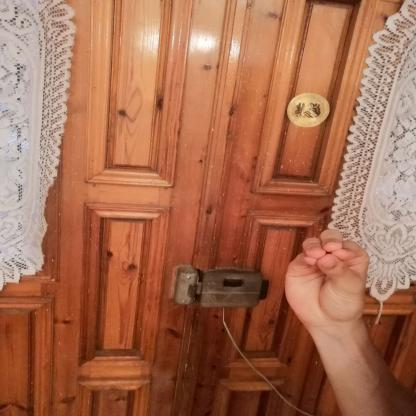HA: (266, 217, 386, 338)
